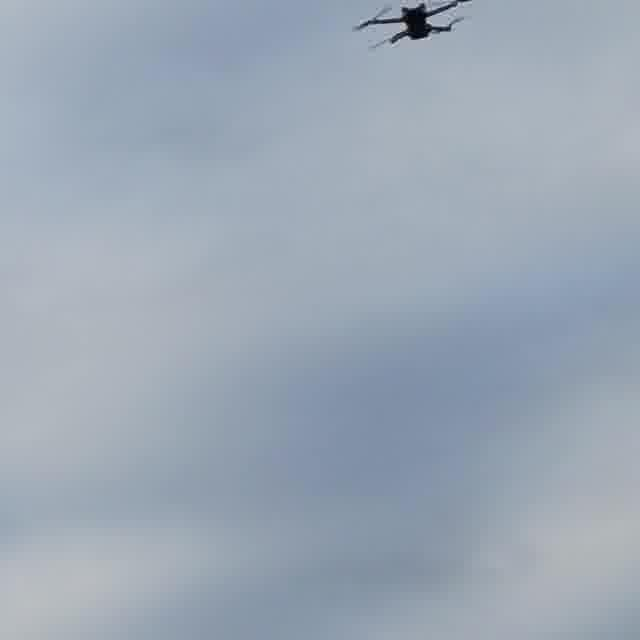Drohne: (355, 0, 471, 47)
